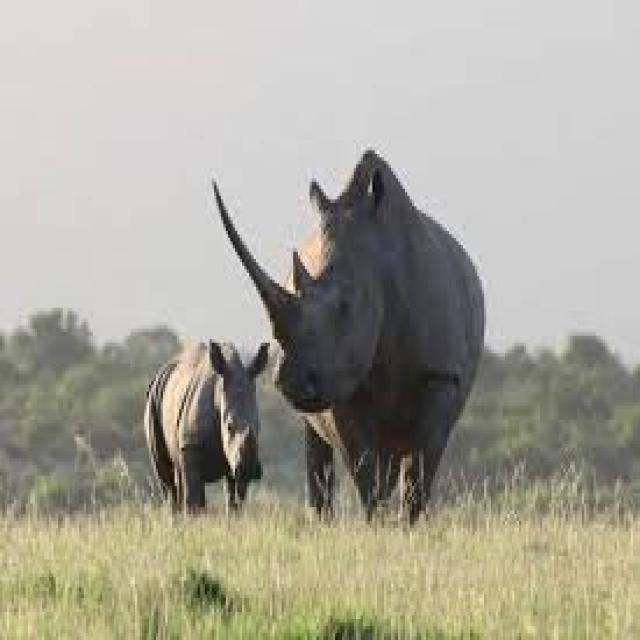rhinoceros: (212, 150, 484, 521), (144, 339, 268, 511)
